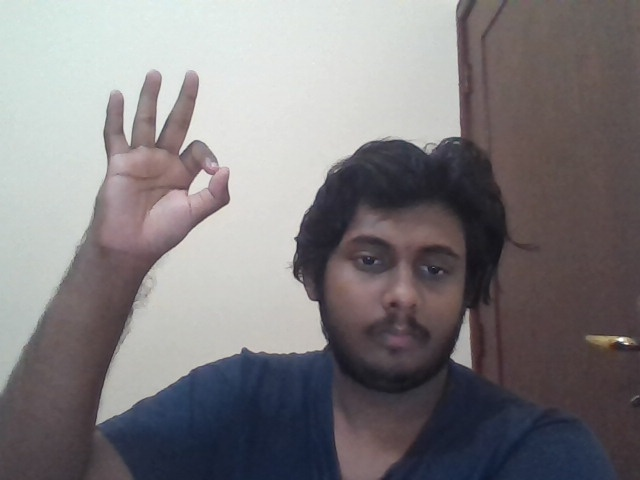ok: (92, 68, 231, 258)
